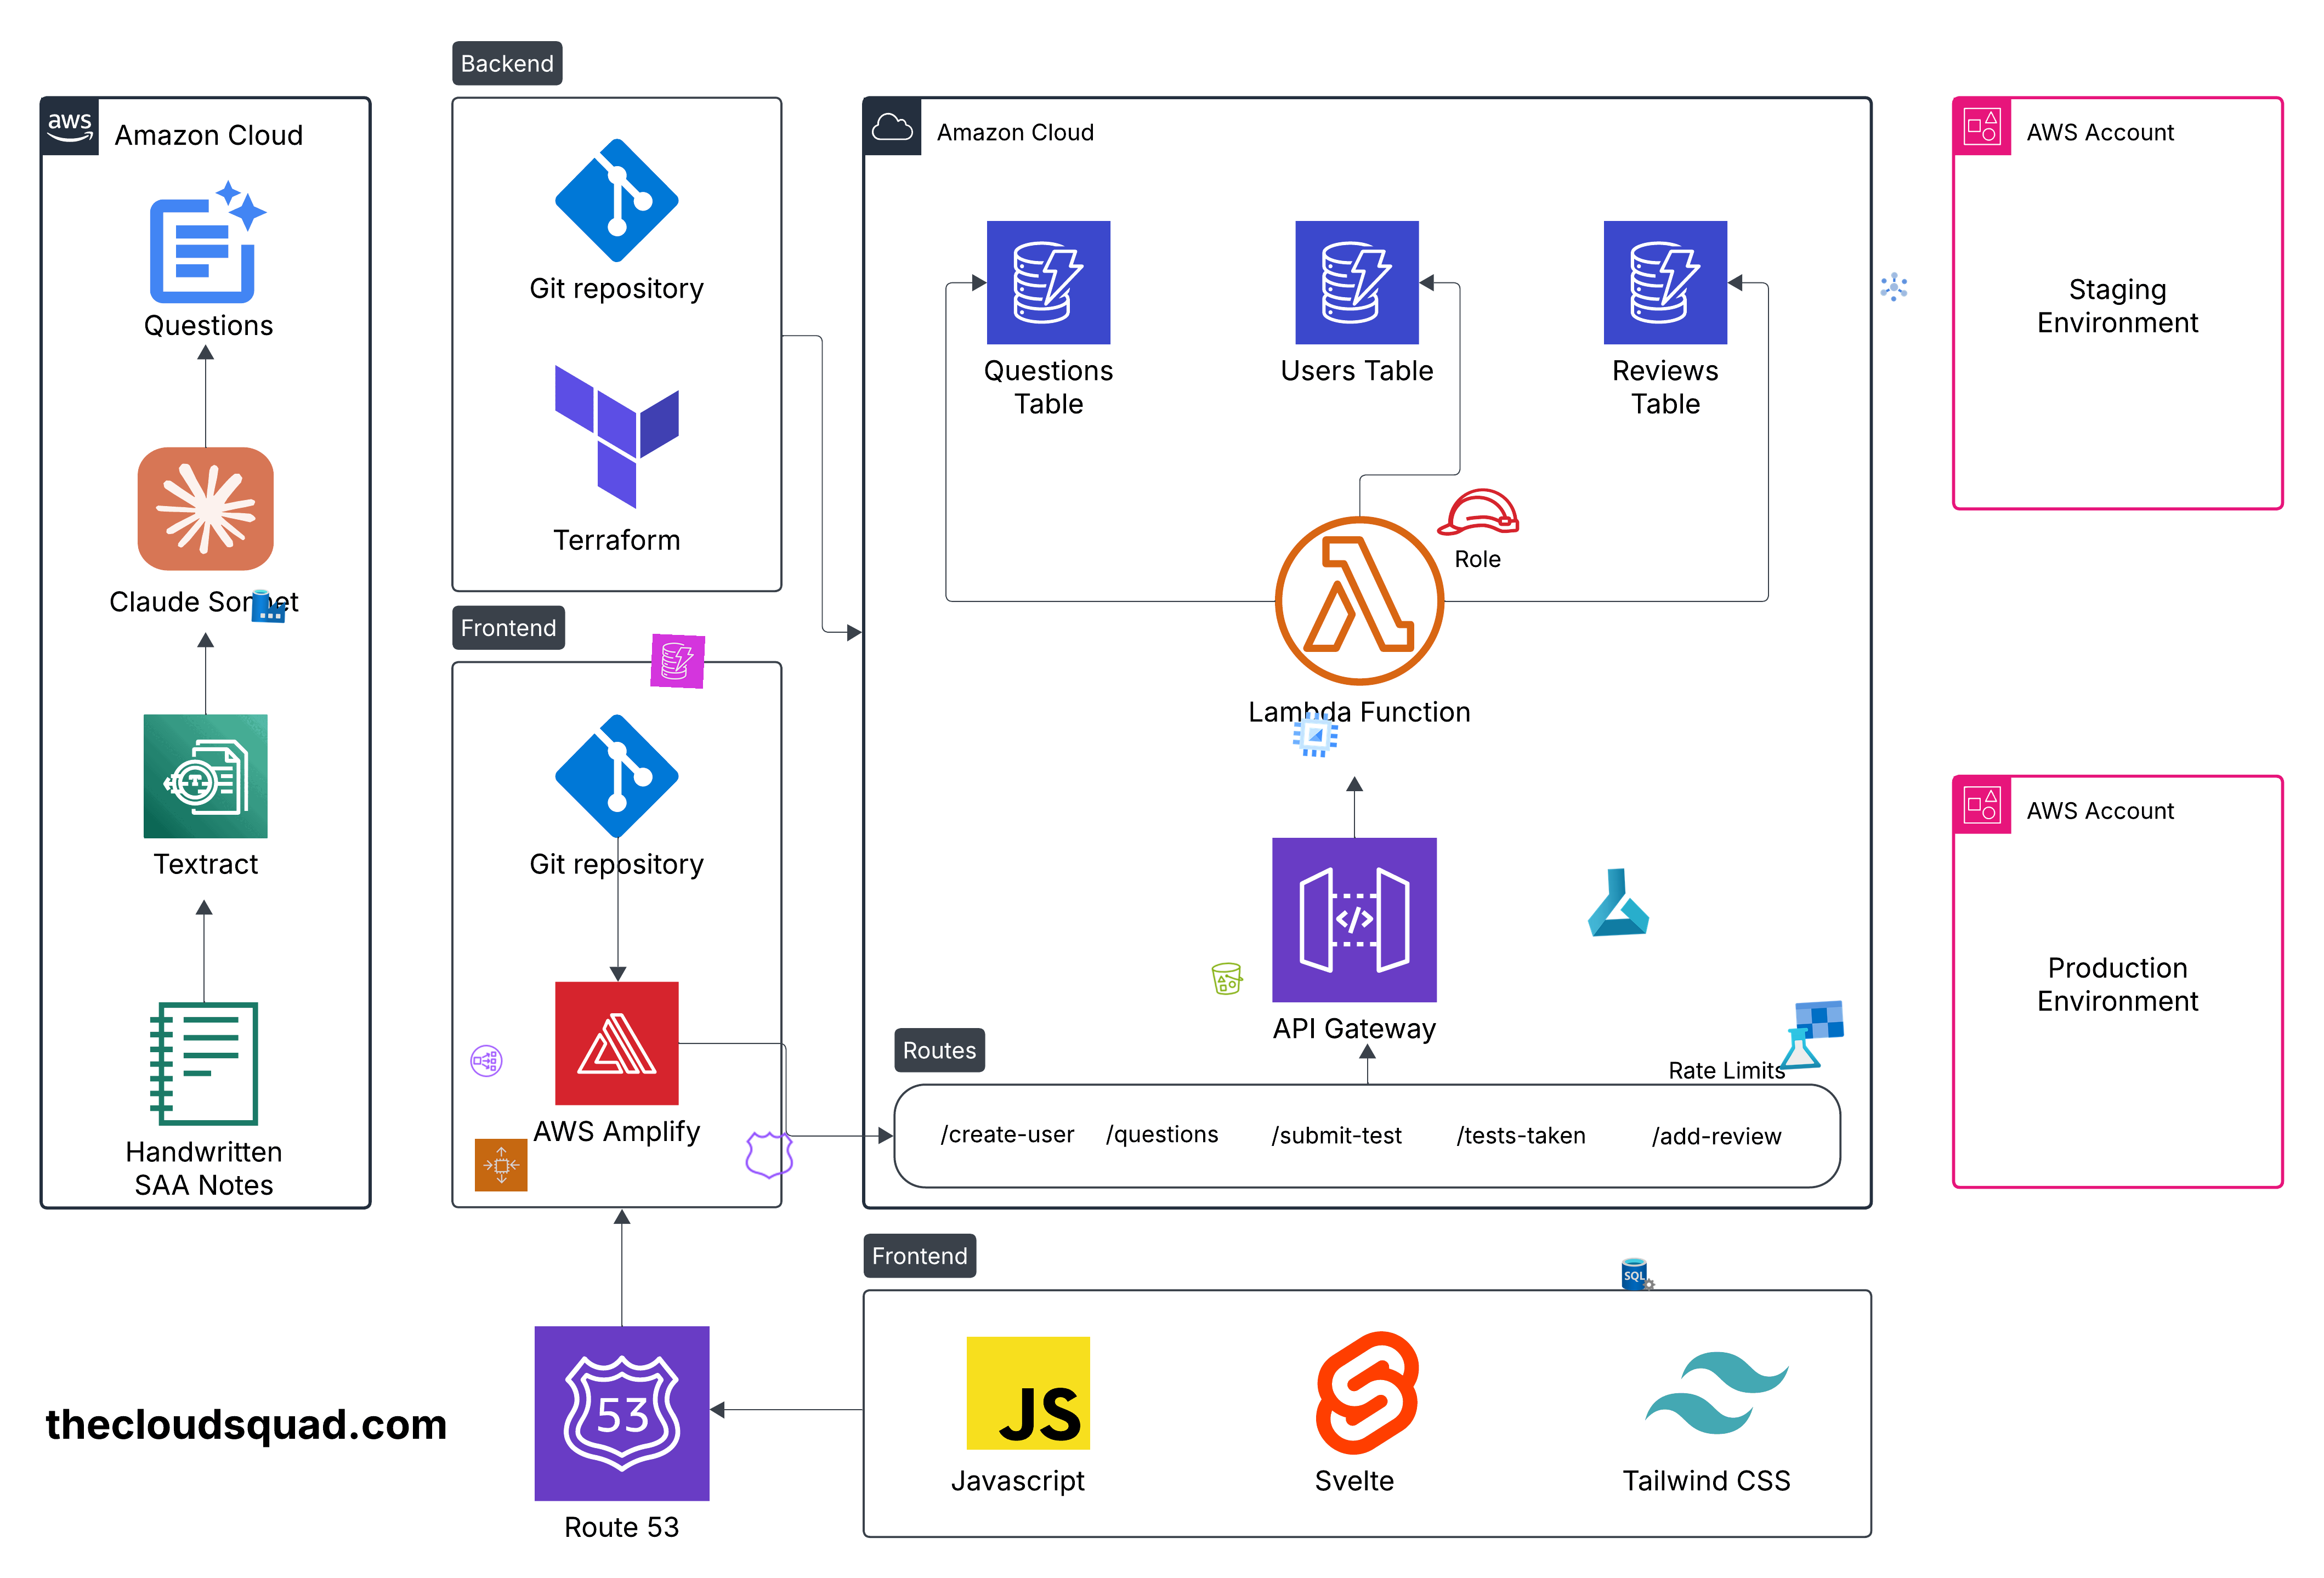aws_amazon_dynamodb: (650, 634, 706, 689)
aws_amazon_ec2_auto_scaling: (474, 1138, 528, 1192)
aws_elastic_load_balancing_network_load_balancer: (468, 1043, 505, 1080)
aws_route_53_hosted_zone: (743, 1129, 798, 1182)
aws_simple_storage_service_bucket_with_objects: (1208, 960, 1247, 999)
azure_data_factories: (250, 586, 287, 625)
azure_machine_learning: (1581, 865, 1655, 939)
azure_machine_learning_studio_workspaces: (1773, 999, 1849, 1073)
azure_sql_server: (1620, 1256, 1657, 1293)
gcp_compute_engine: (1287, 706, 1343, 763)
gcp_pubsub: (1875, 268, 1912, 305)
